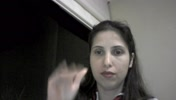hand: (30, 26, 91, 83)
